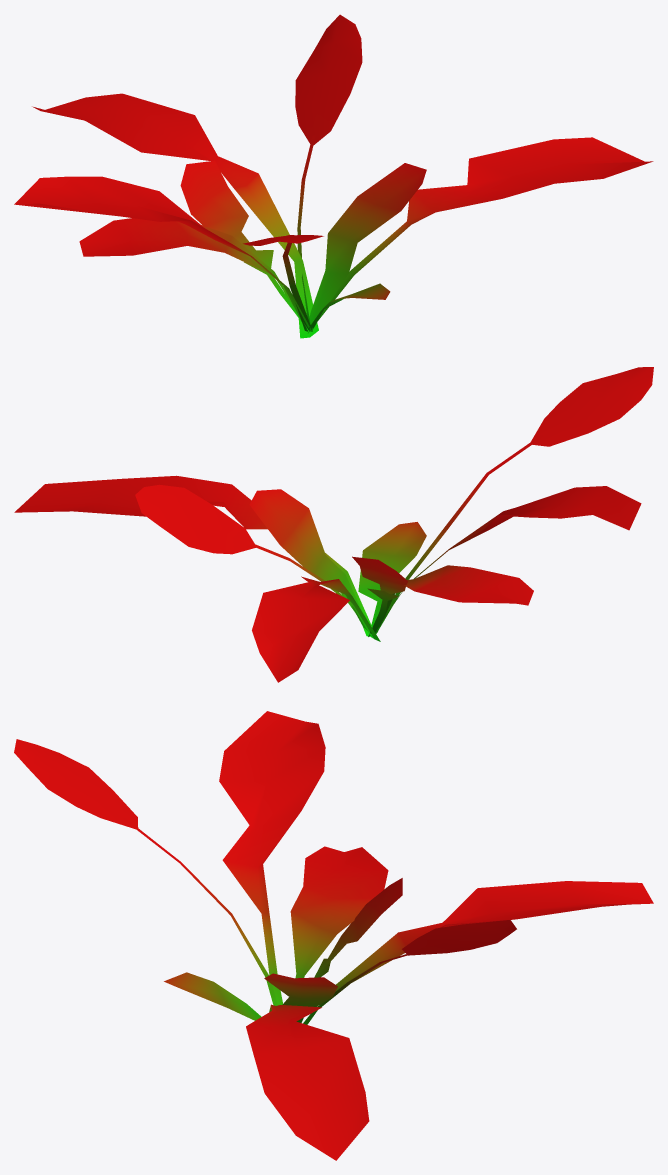
The model's file is Var19_LOD1.fbx.
3 views of the same model, one above another, from view 1: azimuth 30°, elevation 25°; view 2: azimuth 150°, elevation 25°; view 3: azimuth 270°, elevation 25° (orthographic). The views are drawn at different scales.
Parts seen in each view (by area): view 1: _fk2y_Var19_LOD1; view 2: _fk2y_Var19_LOD1; view 3: _fk2y_Var19_LOD1.
Boxes of the visible parts, x1,y1,x2,y2 form: _fk2y_Var19_LOD1: (14, 14, 653, 338); _fk2y_Var19_LOD1: (14, 367, 653, 682); _fk2y_Var19_LOD1: (14, 711, 653, 1160).
Size of the model in its own units: 30.15 by 10.46 by 26.03.
